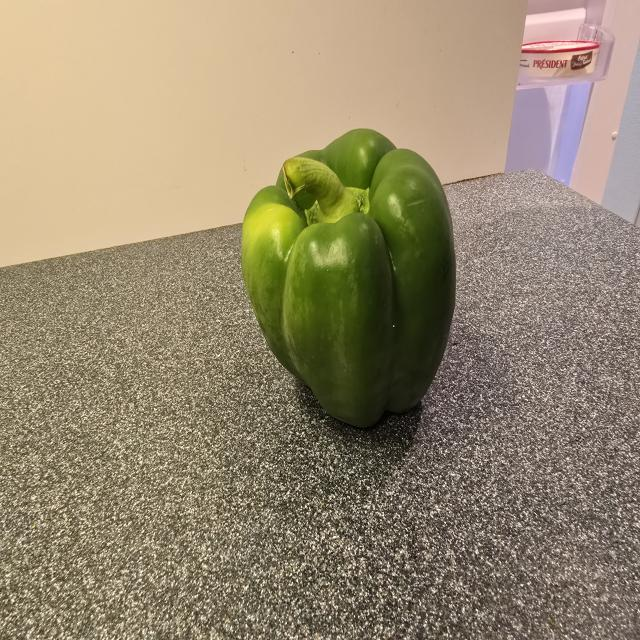Bell Pepper: (234, 115, 463, 442)
